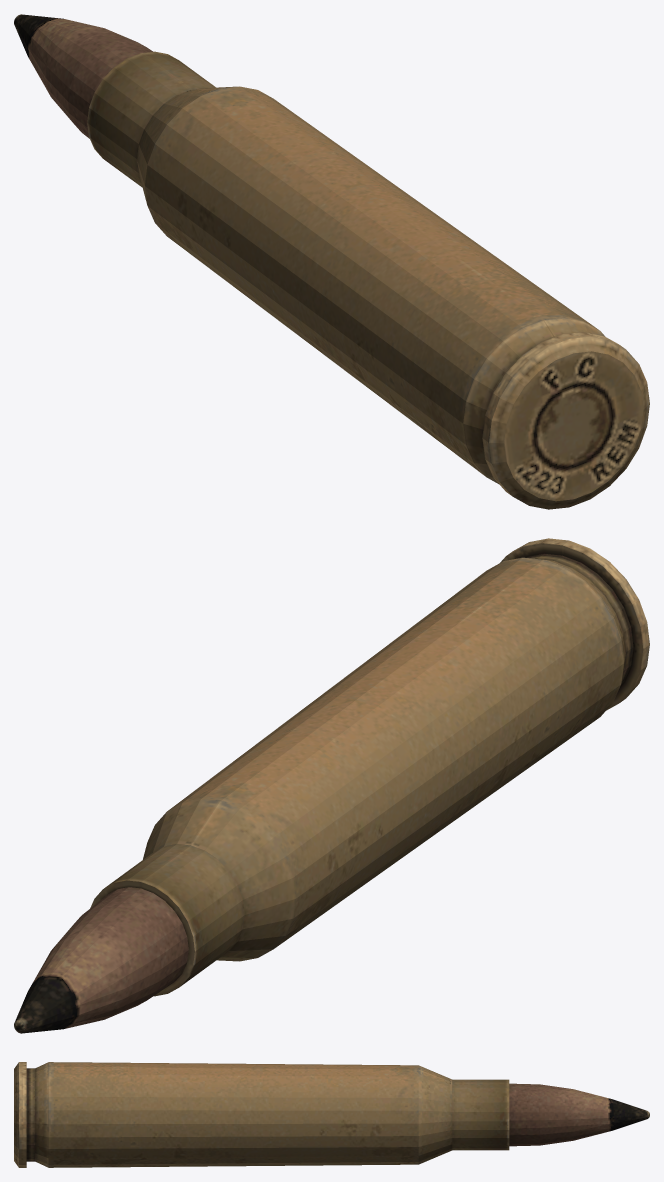
The picture shows the model from 3 angles, top to bottom: view 1: azimuth 30°, elevation 25°; view 2: azimuth 150°, elevation 25°; view 3: azimuth 270°, elevation 25°; orthographic projection. The views are drawn at different scales.
Visible parts, largest first — view 1: TW_5c0d5ae286f7741e46554302_PZ_Import; view 2: TW_5c0d5ae286f7741e46554302_PZ_Import; view 3: TW_5c0d5ae286f7741e46554302_PZ_Import.
Boxes of the visible parts, left/top/right/bottom form: TW_5c0d5ae286f7741e46554302_PZ_Import: left=14, top=14, right=649, bottom=509; TW_5c0d5ae286f7741e46554302_PZ_Import: left=14, top=538, right=649, bottom=1033; TW_5c0d5ae286f7741e46554302_PZ_Import: left=14, top=1062, right=649, bottom=1167.
Bounding box in the file's own units: 0.00552 × 0.033 × 0.00552.
Materials: 1 (1 with a texture image).
